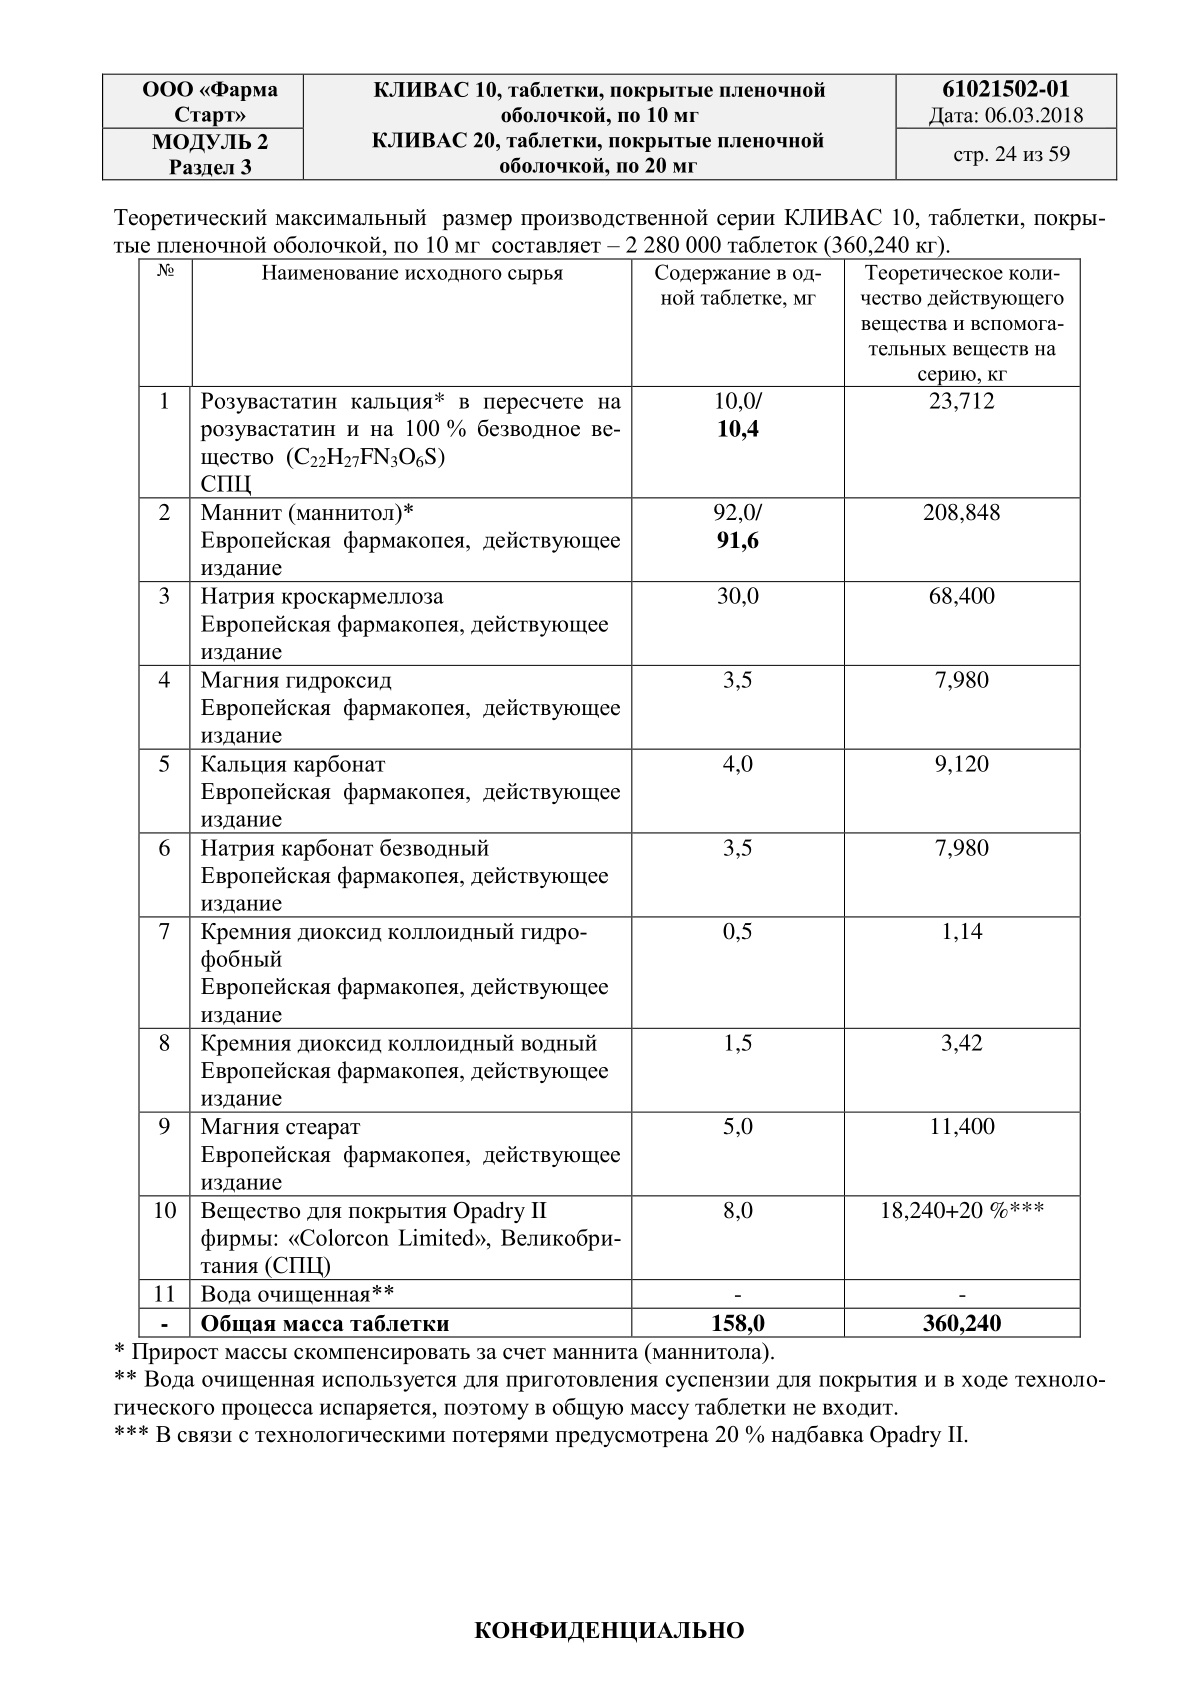full_lined: (137, 257, 1081, 1339)
merged_cells: (101, 73, 1118, 180)
